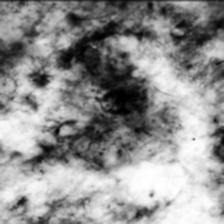Potentially Malignant Skin Tumors: (93, 72, 153, 116)
